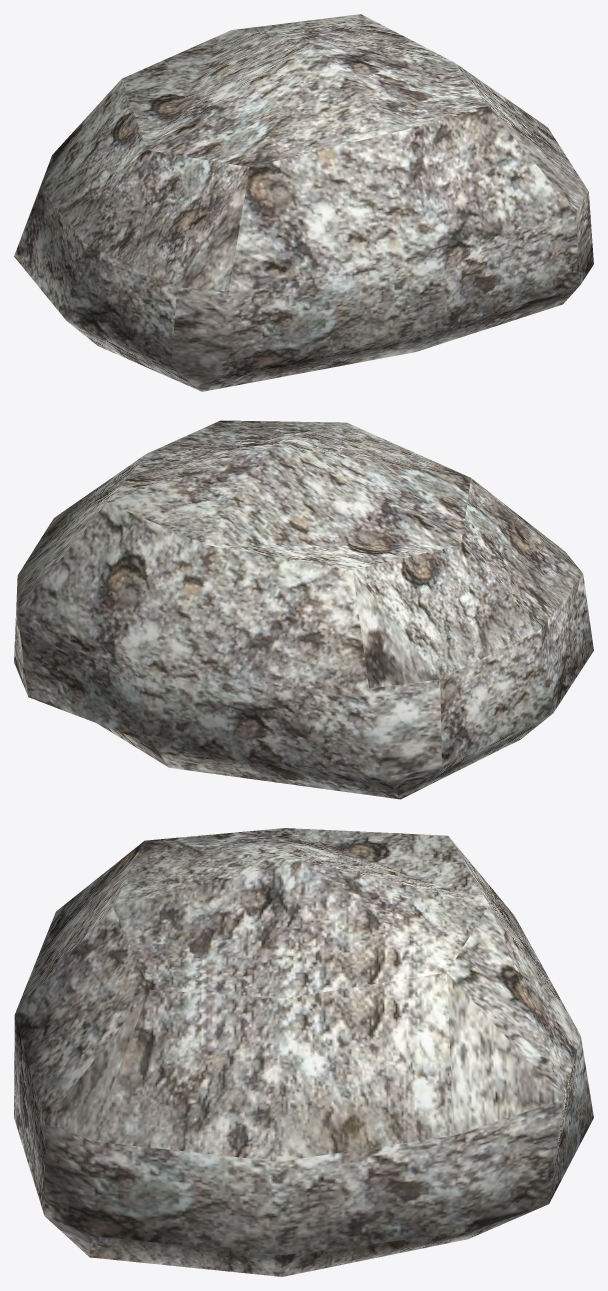
Rendered from rock.FBX.
3 views of the same model, one above another, from view 1: azimuth 30°, elevation 25°; view 2: azimuth 150°, elevation 25°; view 3: azimuth 270°, elevation 25° (orthographic). The views are drawn at different scales.
Visible parts, largest first — view 1: rock; view 2: rock; view 3: rock.
Boxes of the visible parts, <box> form: rock: <box>14,14,593,391</box>; rock: <box>14,420,593,799</box>; rock: <box>14,828,593,1276</box>.
Size of the model in its own units: 183 by 89.26 by 151.
